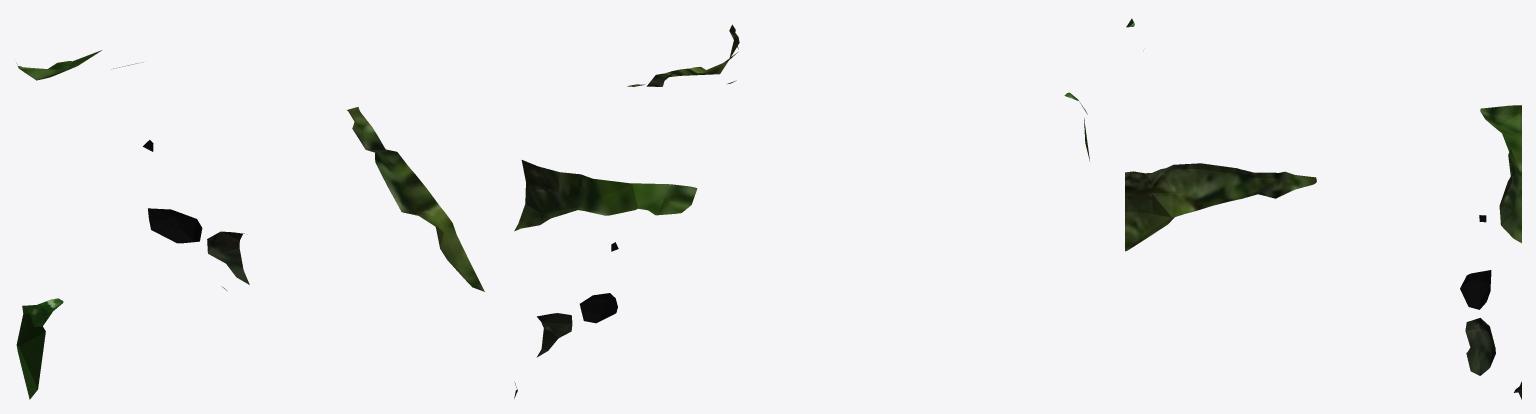
The picture shows the model from 3 angles, left to right: view 1: azimuth 30°, elevation 25°; view 2: azimuth 150°, elevation 25°; view 3: azimuth 270°, elevation 25°; orthographic projection. The views are drawn at different scales.
Bounding box in the file's own units: 0.8373 × 0.5083 × 0.8373.
Materials: 1 (1 with a texture image).
